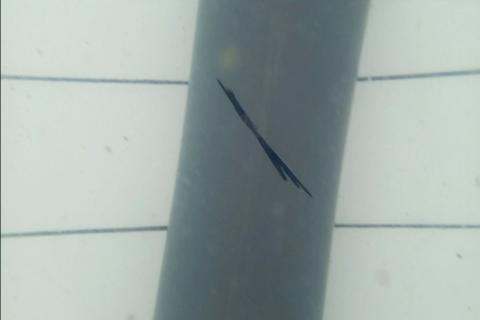keretakan: (217, 77, 314, 201)
